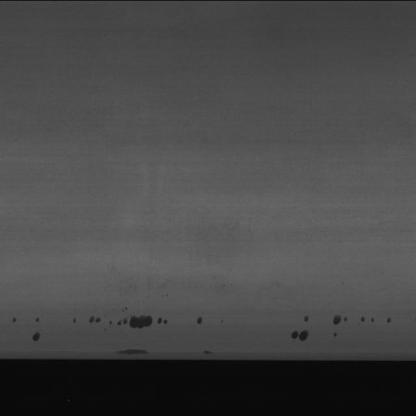oil_spot: (274, 308, 370, 347), (74, 311, 209, 334), (16, 326, 46, 349), (115, 346, 158, 357), (2, 316, 45, 324), (193, 347, 215, 357)
